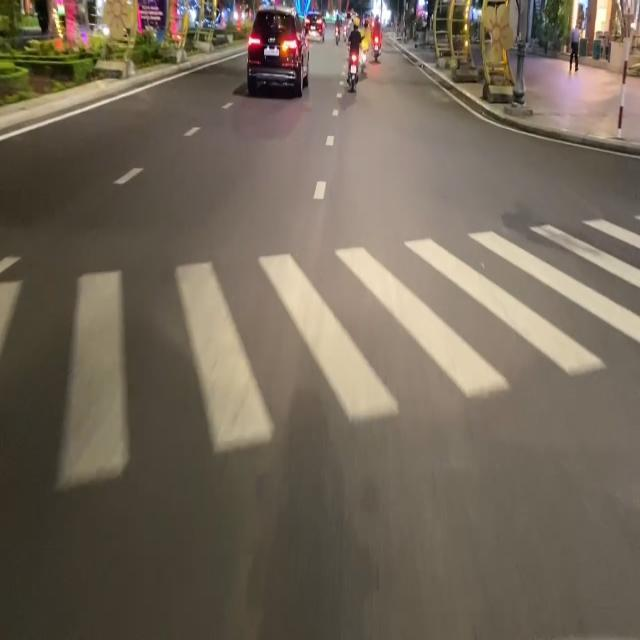walk-crossing: (0, 210, 640, 485)
